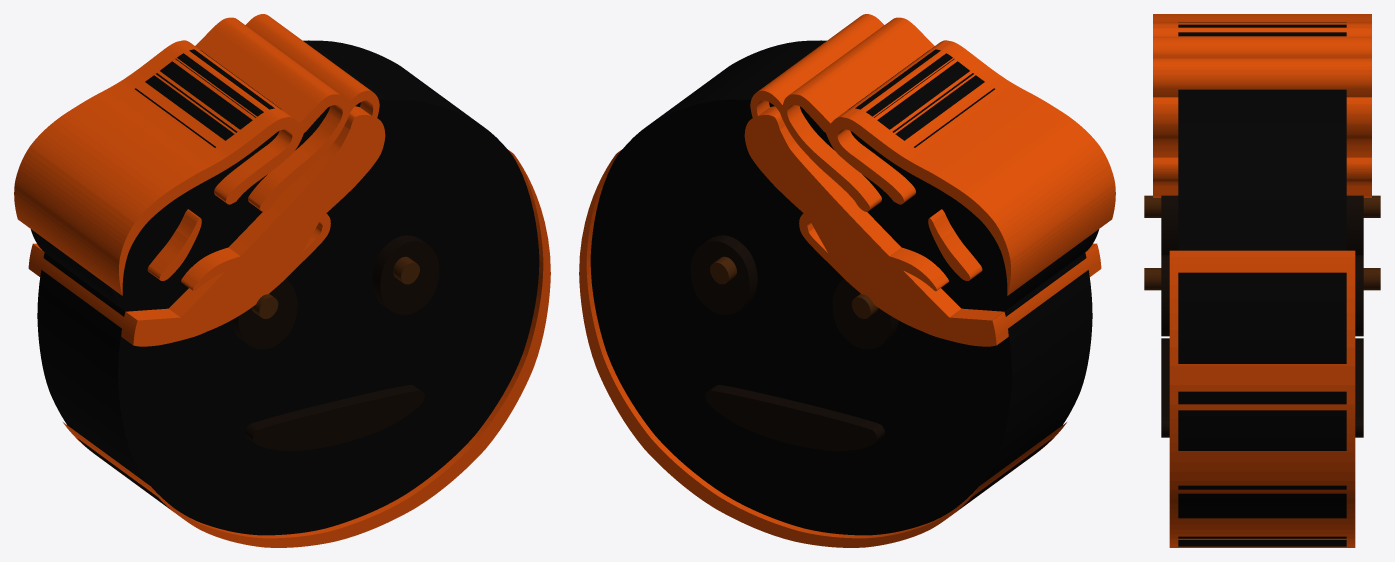
The model's file is U+1FAE1.obj.
3 views of the same model, side by side, from view 1: azimuth 30°, elevation 25°; view 2: azimuth 150°, elevation 25°; view 3: azimuth 270°, elevation 25° (orthographic). The views are drawn at different scales.
Visible parts, largest first — view 1: U+1FAE1_layer00_obj00, U+1FAE1_layer03_obj01, U+1FAE1_layer03_obj00, U+1FAE1_layer00_obj01, U+1FAE1_layer01_obj00, U+1FAE1_layer02_obj00, U+1FAE1_layer02_obj01, U+1FAE1_layer02_obj02, U+1FAE1_layer03_obj02, U+1FAE1_layer03_obj03; view 2: U+1FAE1_layer00_obj00, U+1FAE1_layer03_obj01, U+1FAE1_layer03_obj00, U+1FAE1_layer00_obj01, U+1FAE1_layer01_obj00, U+1FAE1_layer02_obj00, U+1FAE1_layer02_obj01, U+1FAE1_layer02_obj02, U+1FAE1_layer03_obj02, U+1FAE1_layer03_obj03; view 3: U+1FAE1_layer00_obj00, U+1FAE1_layer01_obj00, U+1FAE1_layer03_obj01, U+1FAE1_layer03_obj00, U+1FAE1_layer02_obj02, U+1FAE1_layer03_obj03, U+1FAE1_layer02_obj00, U+1FAE1_layer00_obj01, U+1FAE1_layer02_obj01, U+1FAE1_layer04_obj01, U+1FAE1_layer04_obj00.
Boxes of the visible parts, <box> form: U+1FAE1_layer00_obj00: <box>37,40,539,535</box>; U+1FAE1_layer03_obj01: <box>14,14,382,295</box>; U+1FAE1_layer03_obj00: <box>28,106,385,346</box>; U+1FAE1_layer00_obj01: <box>30,49,360,311</box>; U+1FAE1_layer01_obj00: <box>63,149,550,547</box>; U+1FAE1_layer02_obj00: <box>245,385,424,451</box>; U+1FAE1_layer02_obj01: <box>372,235,439,314</box>; U+1FAE1_layer02_obj02: <box>231,279,297,349</box>; U+1FAE1_layer03_obj02: <box>147,209,201,280</box>; U+1FAE1_layer03_obj03: <box>33,213,330,334</box>; U+1FAE1_layer00_obj00: <box>590,40,1092,535</box>; U+1FAE1_layer03_obj01: <box>747,14,1115,295</box>; U+1FAE1_layer03_obj00: <box>744,106,1101,346</box>; U+1FAE1_layer00_obj01: <box>769,49,1099,311</box>; U+1FAE1_layer01_obj00: <box>579,149,1066,547</box>; U+1FAE1_layer02_obj00: <box>705,385,884,451</box>; U+1FAE1_layer02_obj01: <box>690,235,757,314</box>; U+1FAE1_layer02_obj02: <box>832,279,898,349</box>; U+1FAE1_layer03_obj02: <box>928,209,982,280</box>; U+1FAE1_layer03_obj03: <box>799,213,1096,334</box>; U+1FAE1_layer00_obj00: <box>1178,89,1346,546</box>; U+1FAE1_layer01_obj00: <box>1169,250,1355,547</box>; U+1FAE1_layer03_obj01: <box>1153,14,1371,157</box>; U+1FAE1_layer03_obj00: <box>1153,97,1371,147</box>; U+1FAE1_layer02_obj02: <box>1161,195,1363,254</box>; U+1FAE1_layer03_obj03: <box>1153,157,1371,197</box>; U+1FAE1_layer02_obj00: <box>1161,338,1363,437</box>; U+1FAE1_layer00_obj01: <box>1178,22,1346,36</box>; U+1FAE1_layer02_obj01: <box>1161,255,1363,336</box>; U+1FAE1_layer04_obj01: <box>1144,268,1380,290</box>; U+1FAE1_layer04_obj00: <box>1144,195,1380,217</box>.
Bounding box in the file's own units: 0.3151 × 0.3117 × 0.14.
